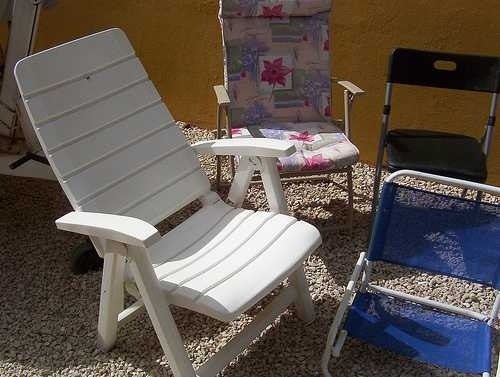obstacle: (14, 28, 320, 375)
